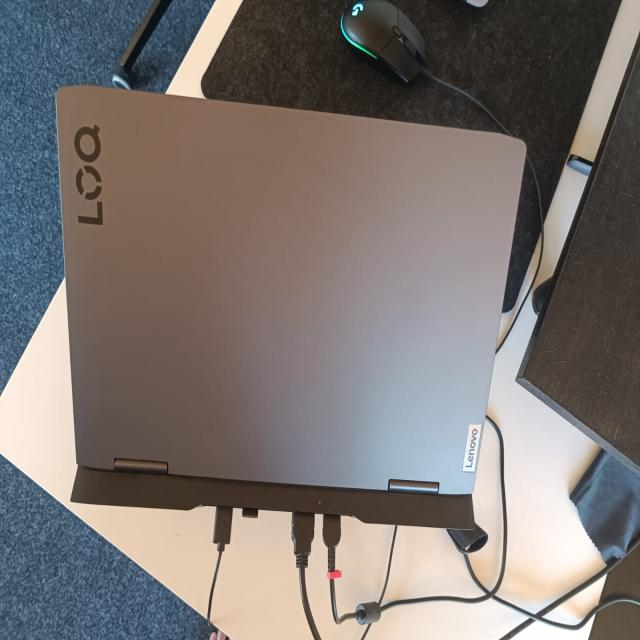Laptops_bbox: (42, 76, 557, 558)
